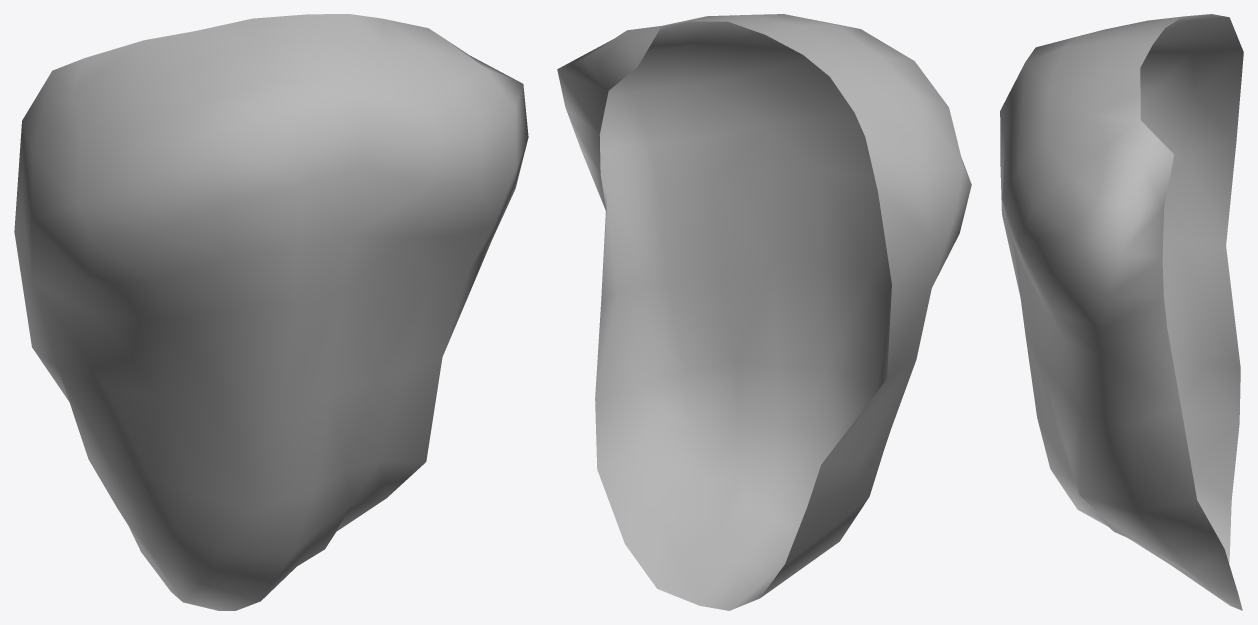
Rendered from SM_ENV_KNFRST_CliffRock_C_COL.FBX.
3 views of the same model, side by side, from view 1: azimuth 30°, elevation 25°; view 2: azimuth 150°, elevation 25°; view 3: azimuth 270°, elevation 25° (orthographic). The views are drawn at different scales.
Visible parts, largest first — view 1: SM_ENV_KNFRST_CliffRock_C_COL; view 2: SM_ENV_KNFRST_CliffRock_C_COL; view 3: SM_ENV_KNFRST_CliffRock_C_COL.
Part boxes in pixels (box(x1,y1,x2,y2)): SM_ENV_KNFRST_CliffRock_C_COL: box(14, 14, 528, 610); SM_ENV_KNFRST_CliffRock_C_COL: box(557, 14, 971, 610); SM_ENV_KNFRST_CliffRock_C_COL: box(1000, 14, 1243, 610).
Bounding box in the file's own units: 847 × 1070 × 431.
